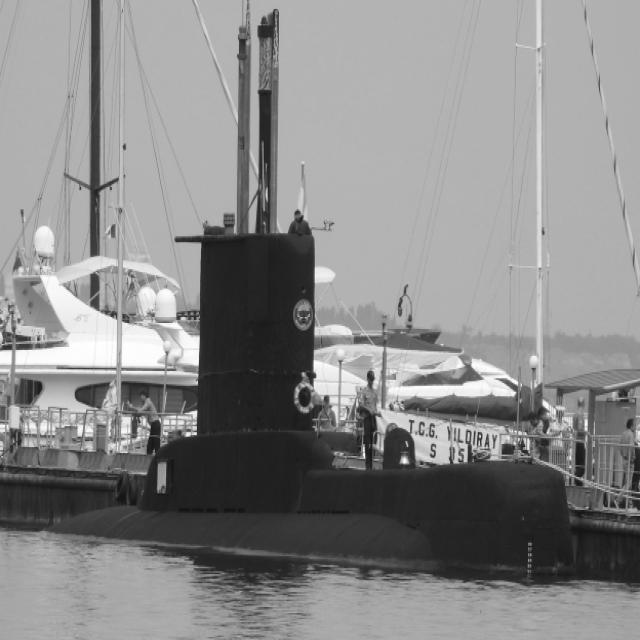submarine: (58, 1, 578, 578)
